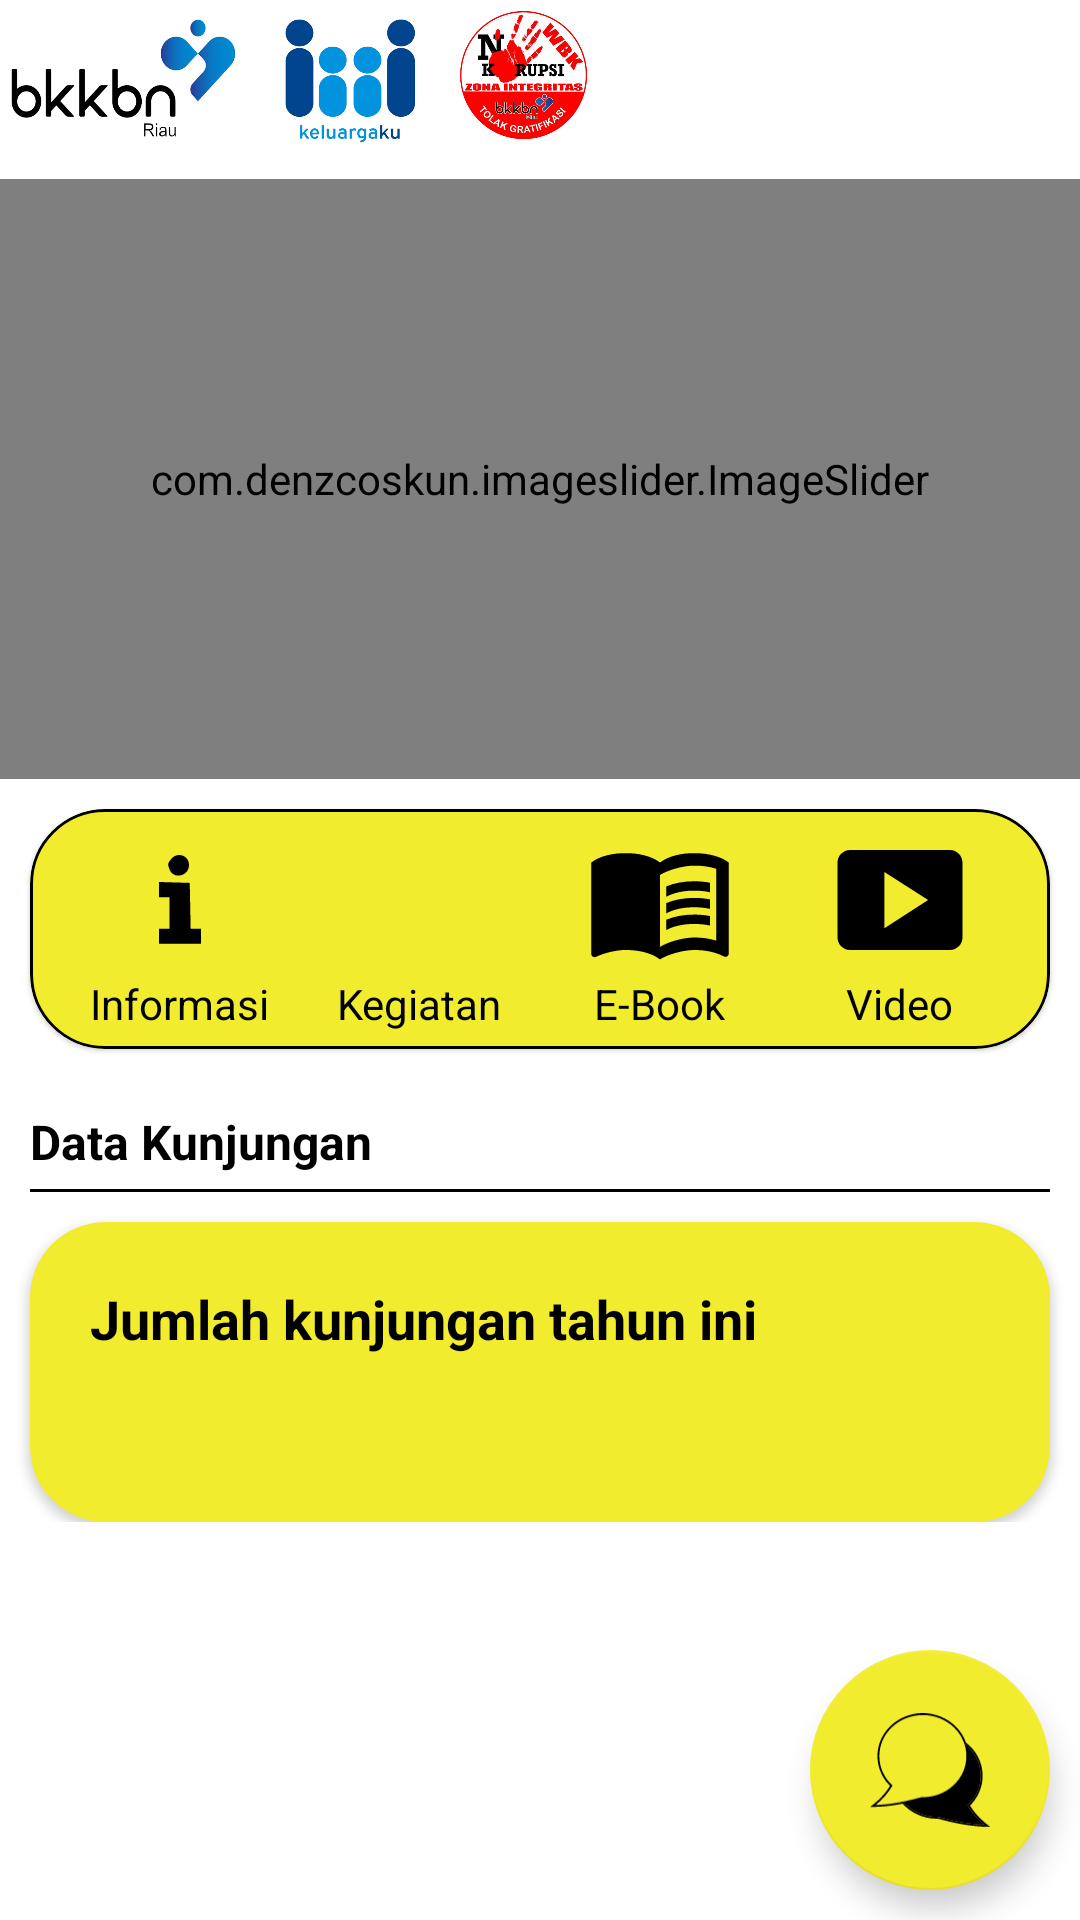

Named icons in this screenshot (1080 x 1920) and their bounding boxes, bbox=(x1, y1, x2, y2):
chat: bbox=(810, 1650, 1050, 1890)
library books: bbox=(591, 853, 729, 960)
smart display: bbox=(837, 850, 963, 950)
